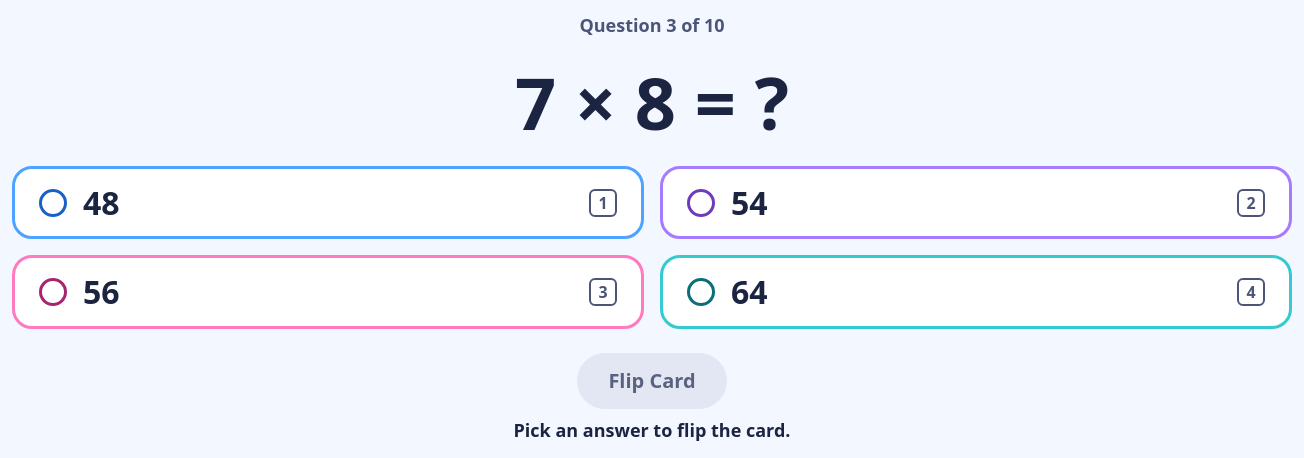
Test case: CardFront › Flip Card button › is enabled, and the hint gone, once an answer is selected
The image size is (1304, 458).
What coordinates should you click on to do the following:
click the button "54 2"
I would click on:
 (749, 203)
Its box is [660,166,1292,239].
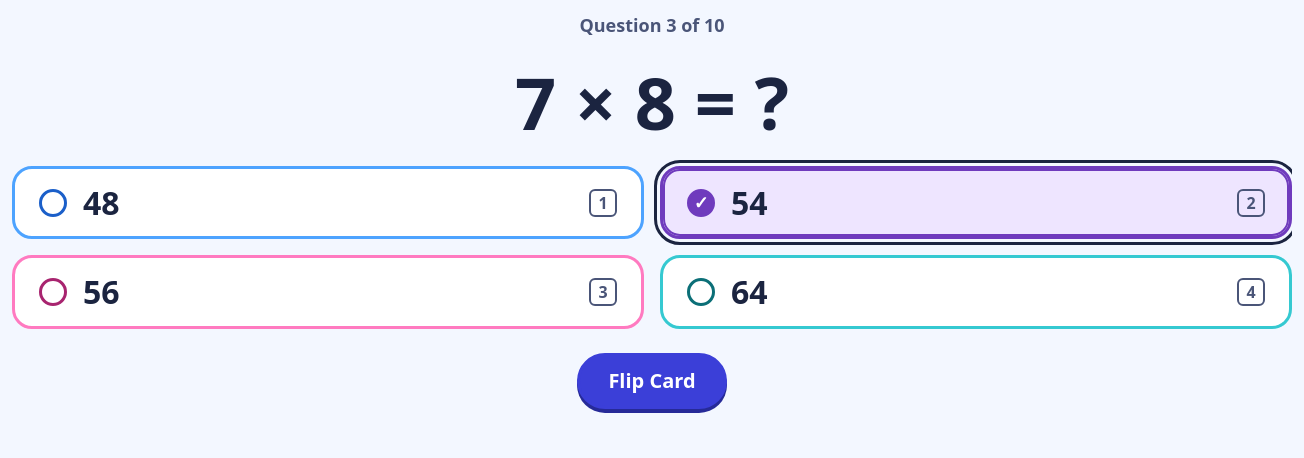
Check: the button "Flip Card" is enabled, box [577,353,727,409]
Check: the text "Pick an answer to flip the card." is gone
